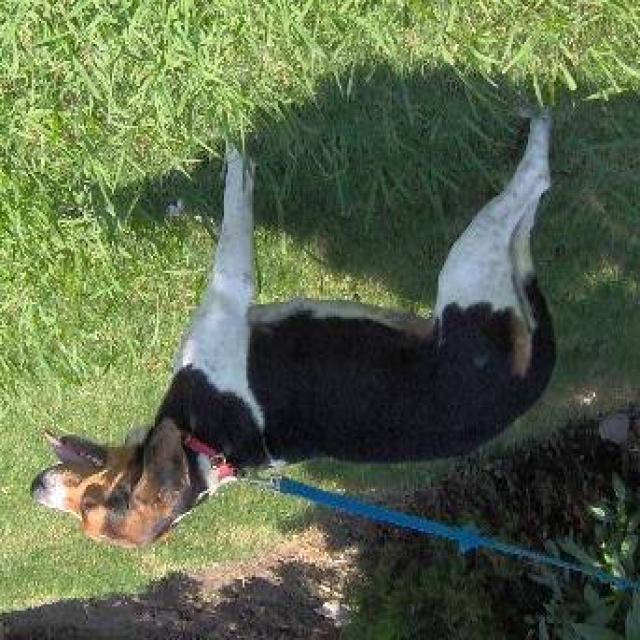dog: (21, 90, 590, 558)
